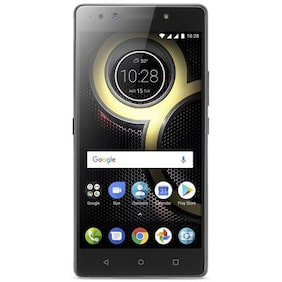mobile: (71, 1, 212, 282)
